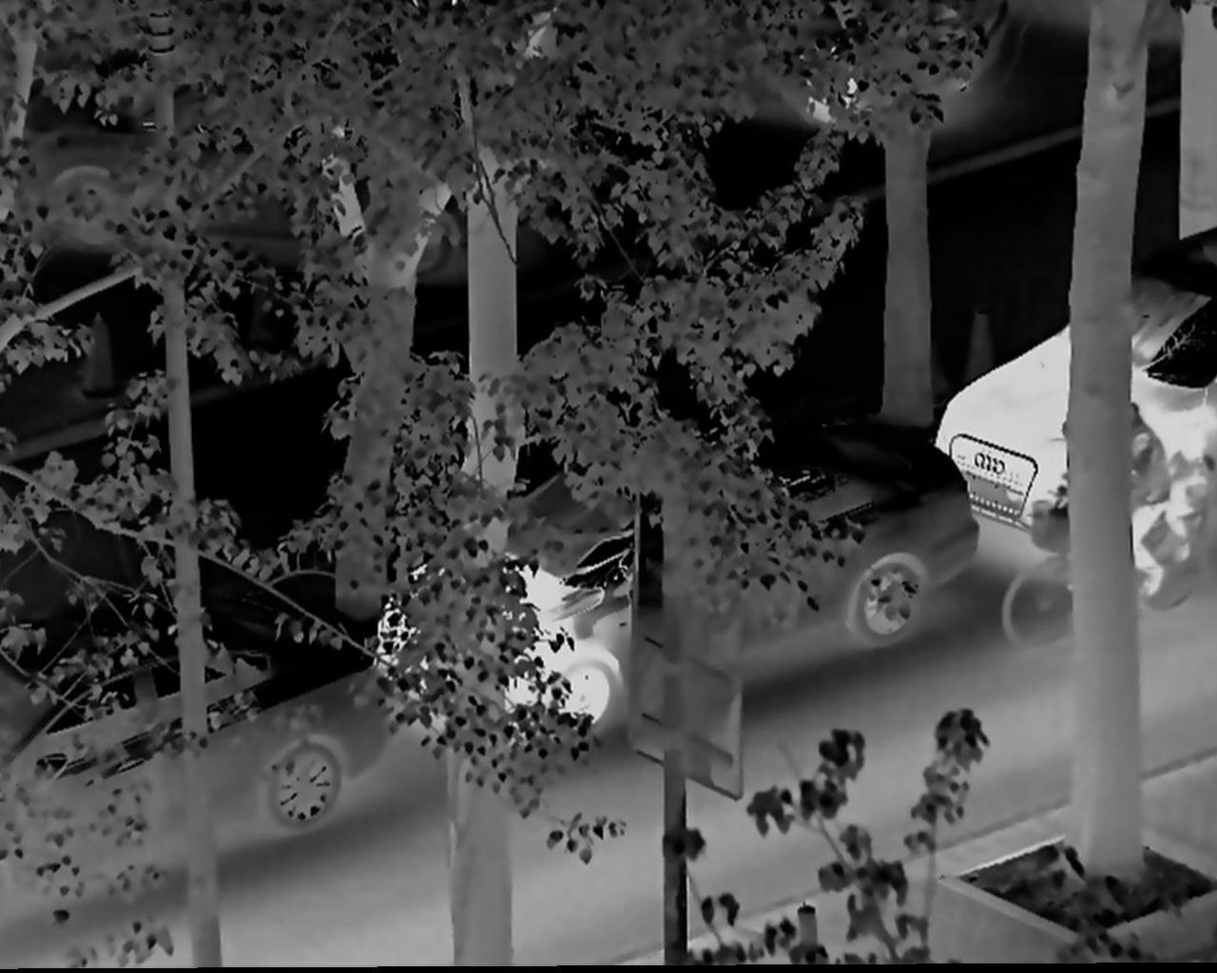person: (1160, 428, 1213, 568)
